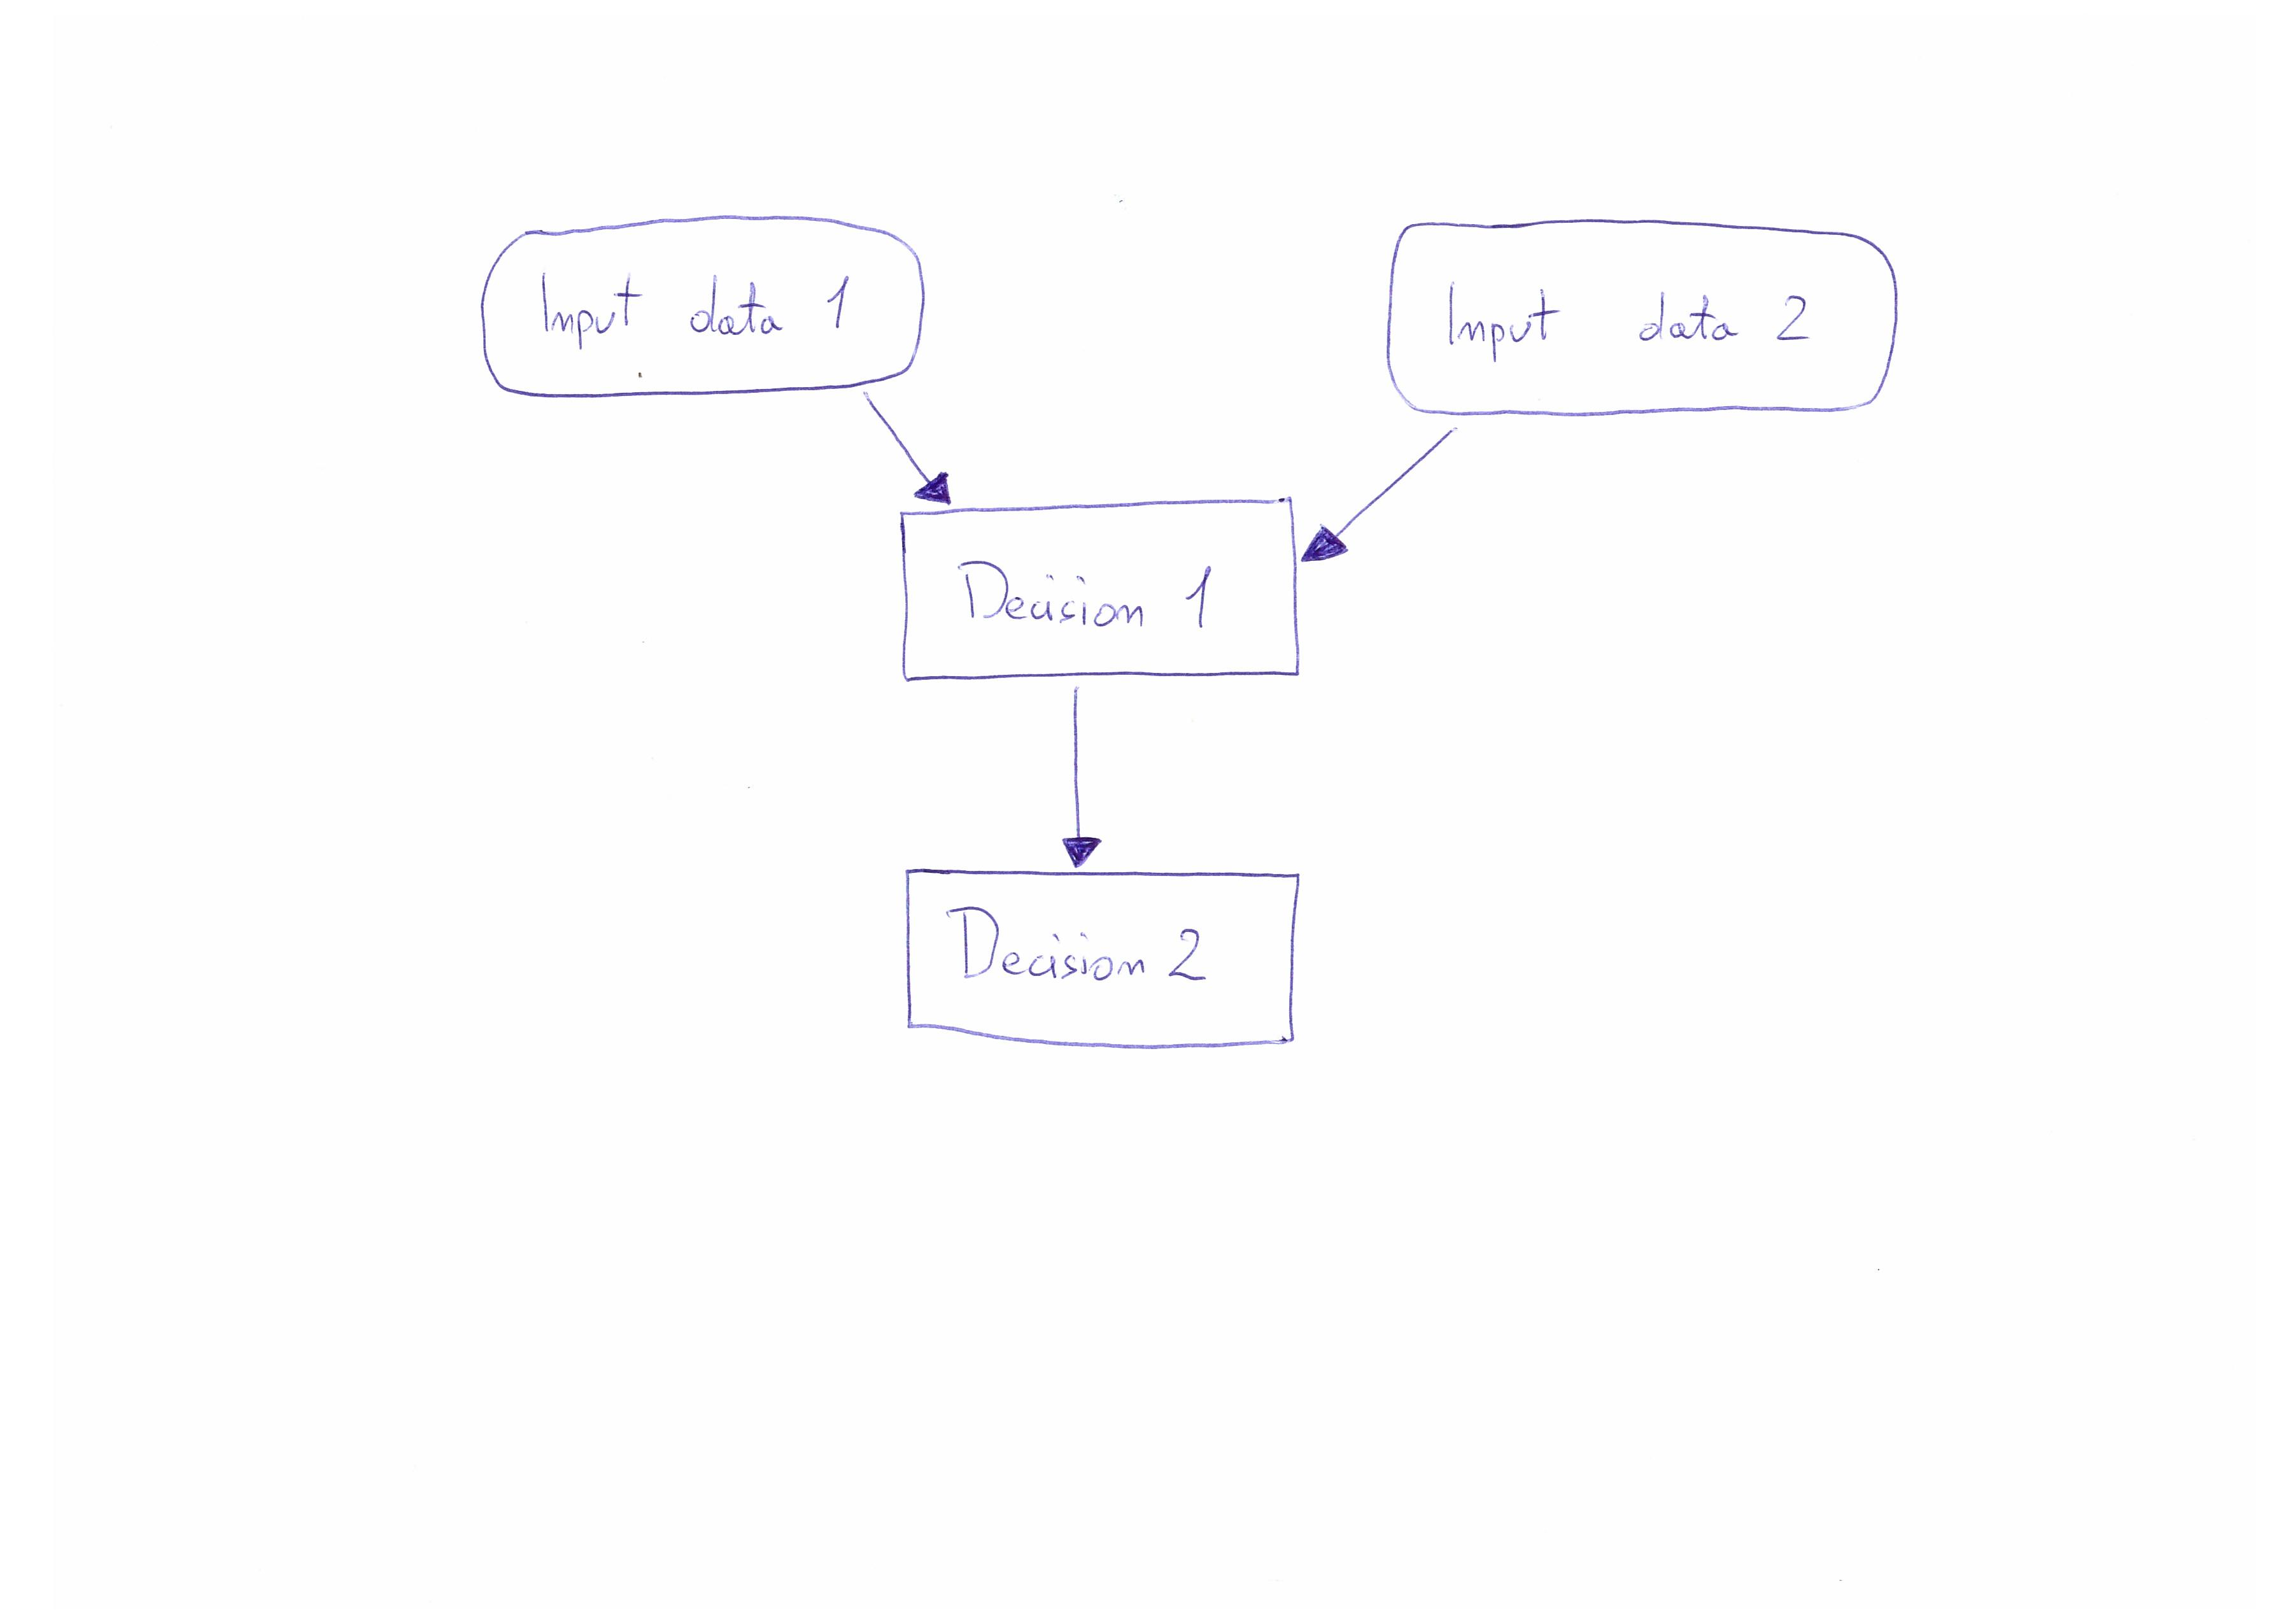arrow_information_requirement: (1297, 418, 1478, 584), (843, 387, 965, 511), (1042, 680, 1109, 870)
node_decision: (900, 865, 1313, 1060), (891, 499, 1306, 684)
node_input_data: (1381, 213, 1905, 422), (464, 209, 940, 395)
text: (1434, 265, 1834, 376), (524, 255, 865, 362), (938, 893, 1226, 1002), (945, 545, 1235, 647)
